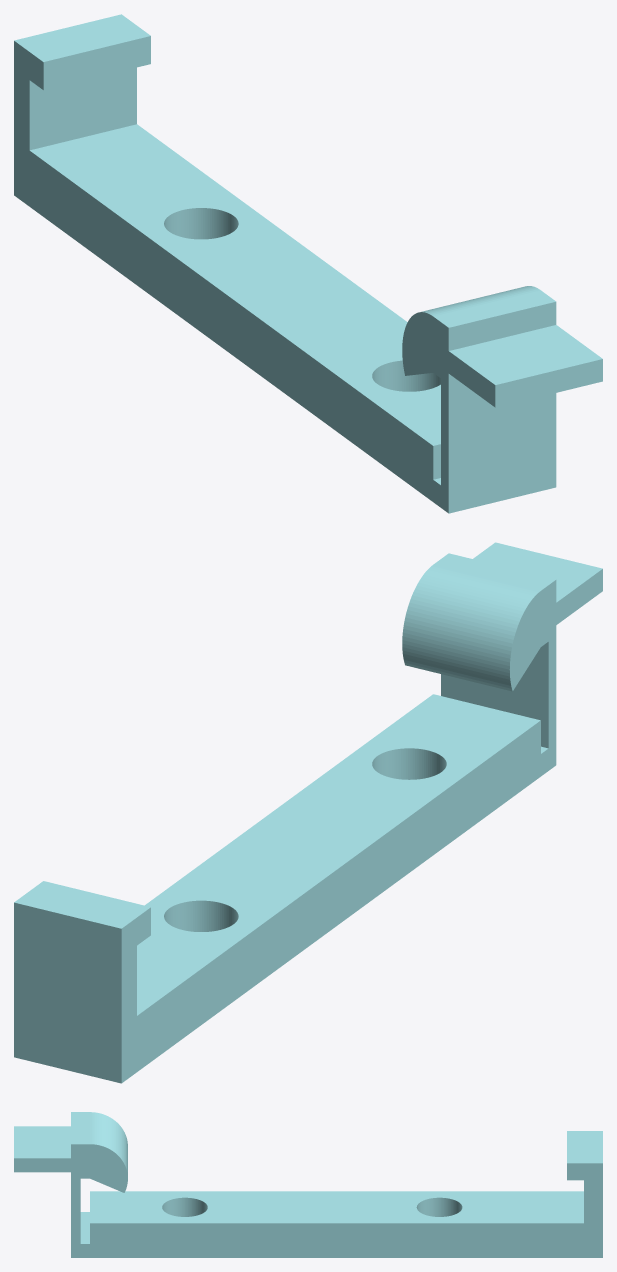
The model's file is 12ozCanHolder.glb.
3 renders of one model, top to bottom at view 1: azimuth 30°, elevation 25°; view 2: azimuth 150°, elevation 25°; view 3: azimuth 270°, elevation 25°, orthographic. The views are drawn at different scales.
Bounding box in the file's own units: 20 × 33 × 155.
